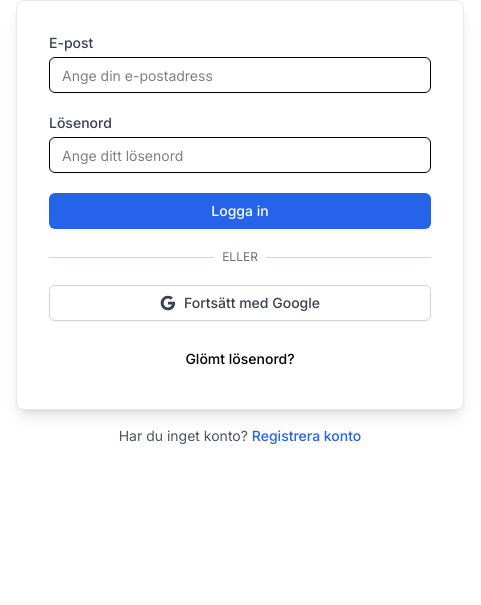
Test: LoginForm Error Handling › shows improved error message for invalid credentials
Fill in form
In the field labelled "E-post": {"x": 240, "y": 75} [49,57,431,93], type "test@example.com"
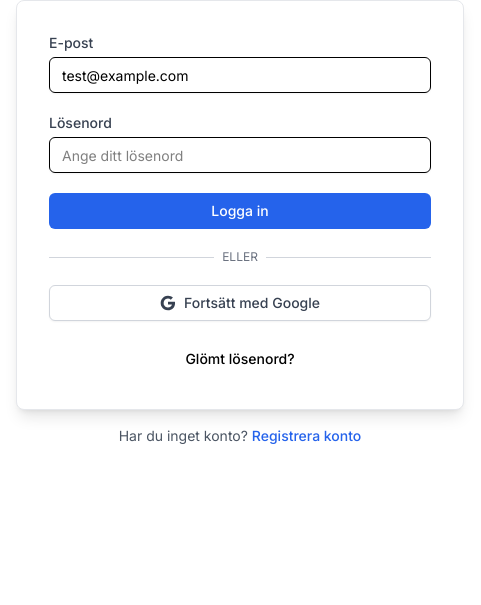
In the password field labelled "Lösenord": {"x": 240, "y": 155} [49,137,431,173], type "wrongpassword"
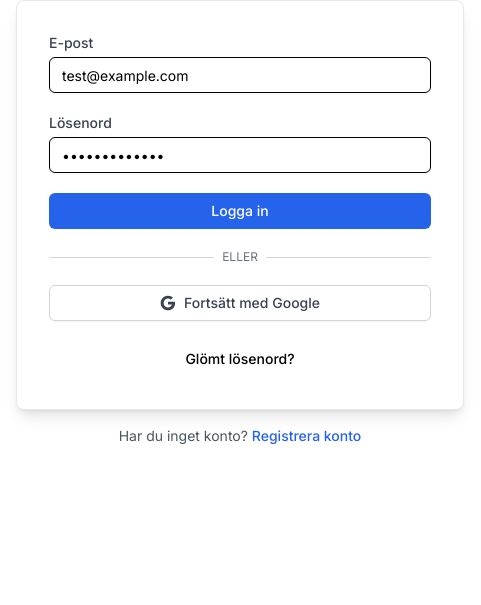
Submit form
Click the button "Logga in": {"x": 240, "y": 211} [49,193,431,229]
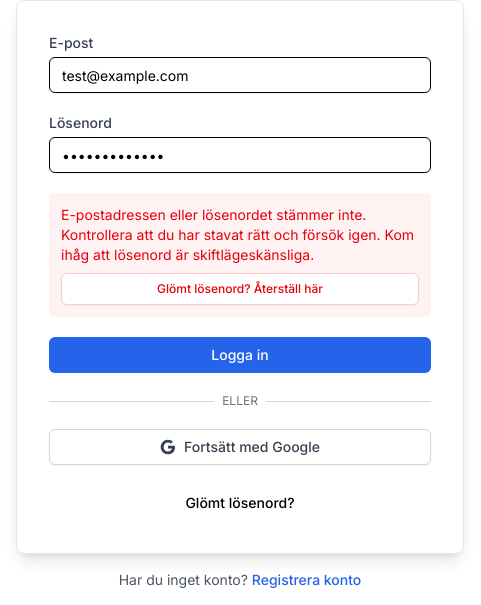
expect the text "kom ihåg att lösenord är skiftlägeskänsliga" is shown: met, box [61,206,414,263]
expect the button "Glömt lösenord? Återställ här" is shown: met, box [61,273,419,305]
